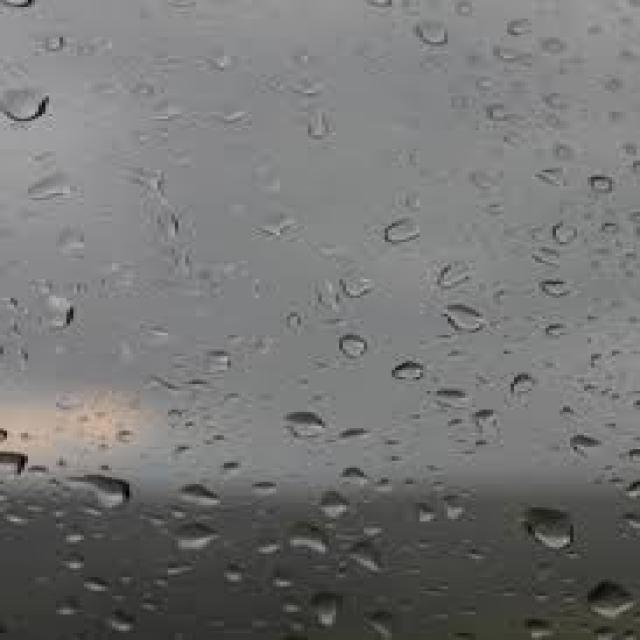raindrop: (513, 497, 580, 558), (28, 282, 98, 340), (161, 470, 240, 517), (0, 79, 73, 129), (372, 208, 448, 255), (63, 468, 140, 512), (574, 571, 640, 620), (278, 513, 342, 562), (154, 520, 234, 556), (20, 162, 87, 204), (344, 534, 402, 580), (436, 297, 497, 340), (326, 323, 388, 363), (254, 206, 316, 246), (312, 480, 368, 522), (280, 403, 336, 444), (382, 352, 444, 388), (340, 268, 398, 306), (422, 381, 479, 418), (408, 14, 459, 53), (0, 439, 42, 486), (360, 605, 410, 640), (504, 367, 554, 402), (544, 213, 590, 250), (538, 273, 592, 304), (310, 586, 347, 630)
